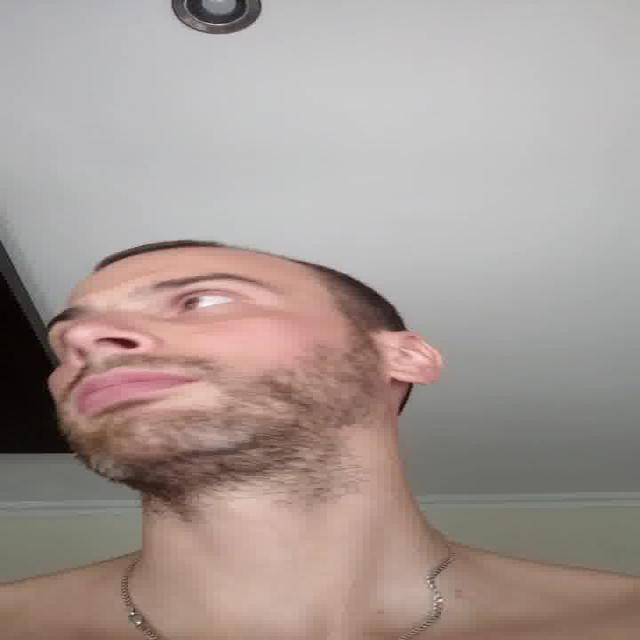earlobe: (382, 331, 444, 386)
